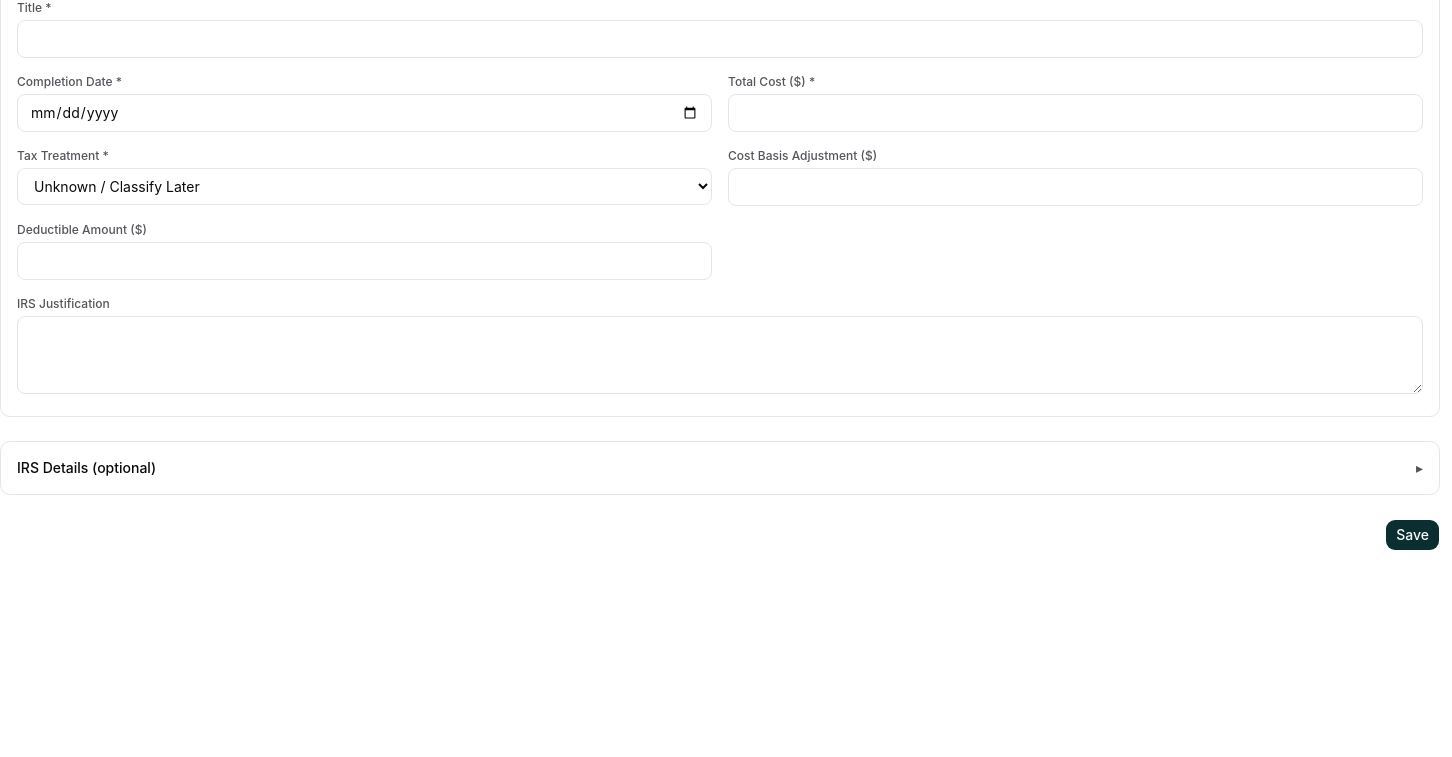
Test: ProjectForm › opens the Safe Harbor tooltip without toggling the checkbox
Click the button "IRS Details (optional) ▸".
click(87, 468)  # box [17, 458, 1423, 478]
(page scrolled)
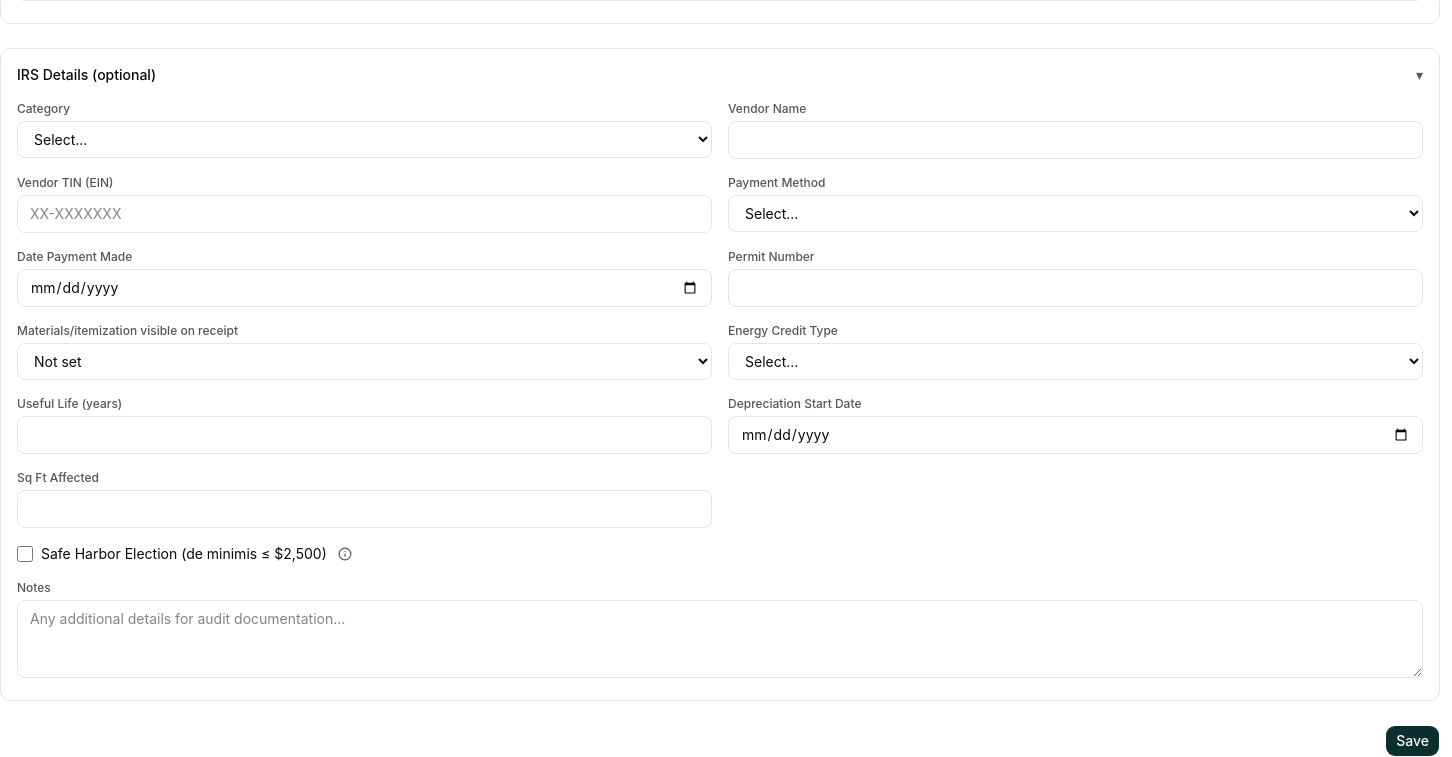
Click the button named "about safe harbor election".
click(345, 554)  # box [335, 544, 355, 564]
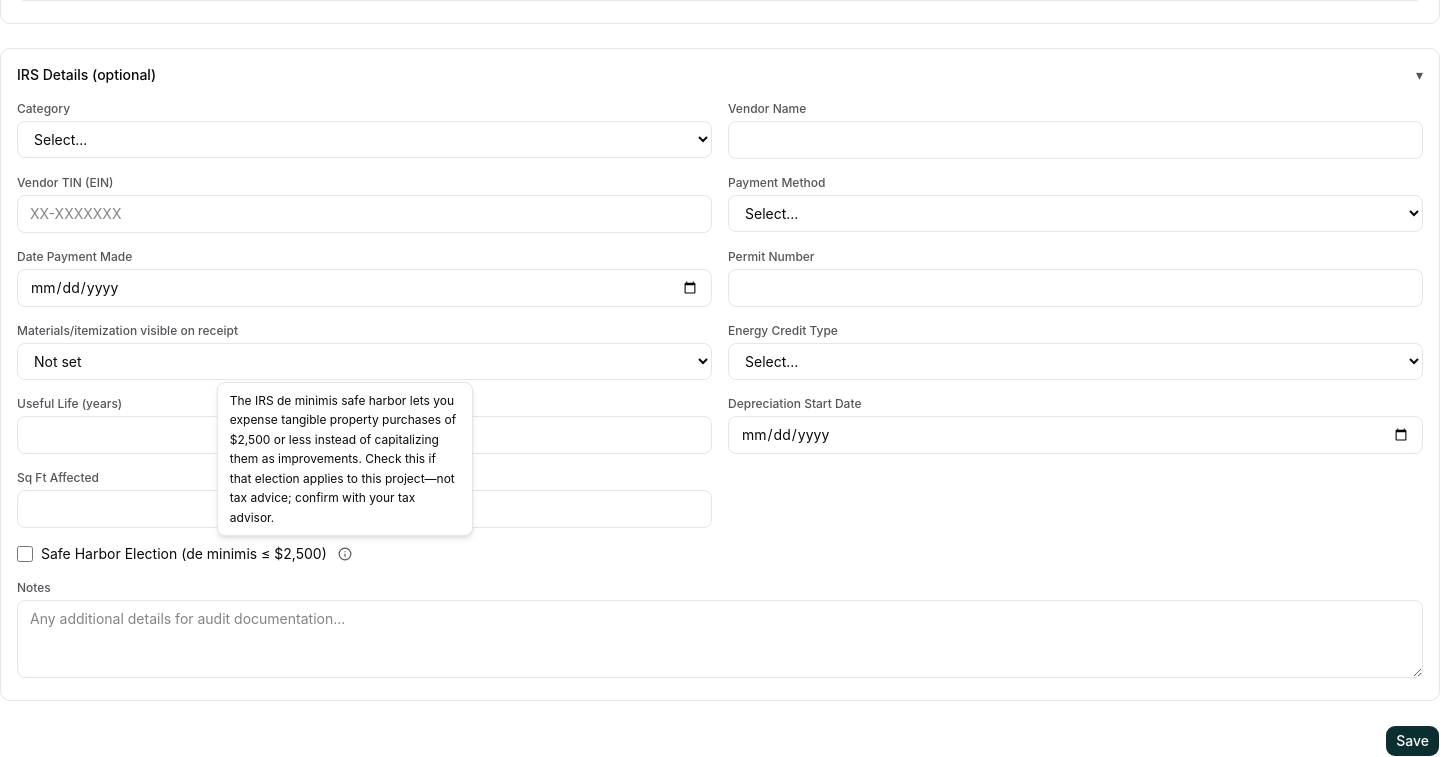
Expected: the checkbox labelled "Safe Harbor Election (de minimis ≤ $2,500)" is not checked, [17, 546, 33, 562]
Expected: the tooltip shows "de minimis safe harbor", [230, 392, 456, 524]
